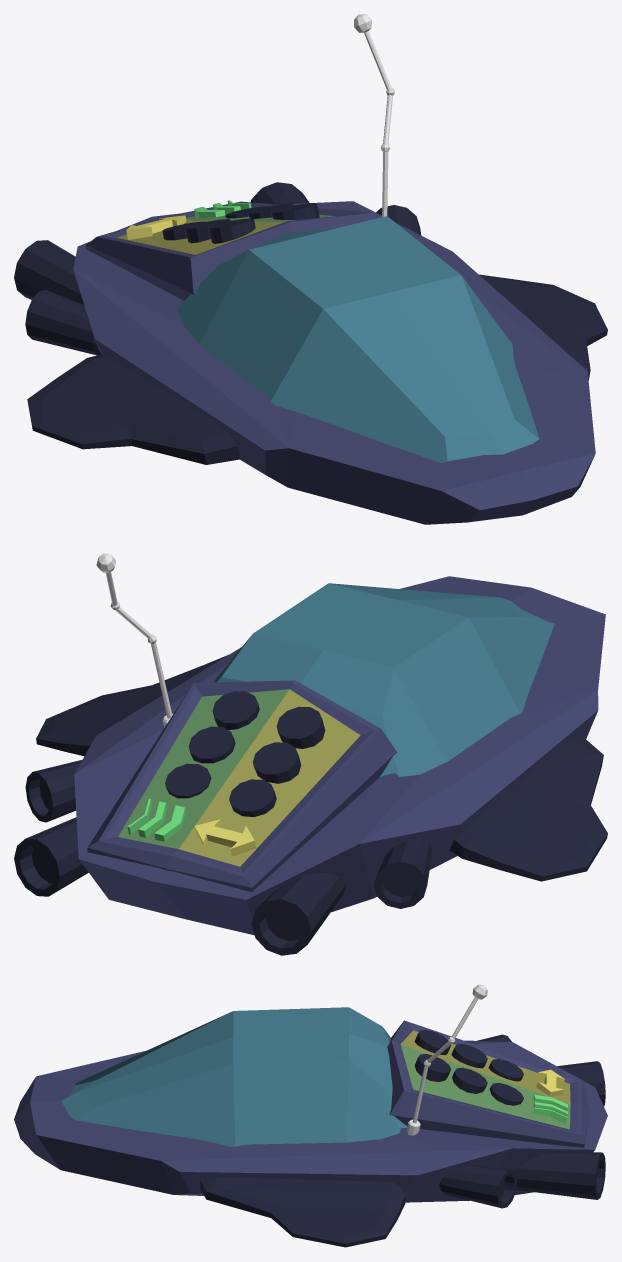
File: mockupCycleEngine_itération2.fbx
The picture shows the model from 3 angles, top to bottom: view 1: azimuth 30°, elevation 25°; view 2: azimuth 150°, elevation 25°; view 3: azimuth 270°, elevation 25°; orthographic projection. The views are drawn at different scales.
Visible parts, largest first — view 1: cockpit, Base, Wings, Back, Rockets, Holders, Sphere.002; view 2: Base, cockpit, Back, Wings, Rockets, Holders, Sphere.002; view 3: cockpit, Base, Back, Wings, Rockets, Holders, Sphere.002.
Part boxes in pixels (x1,y1,x2,y2): cockpit: (177,216,539,463); Base: (73,201,595,524); Wings: (27,274,607,464); Back: (86,200,376,300); Rockets: (14,182,421,355); Holders: (162,203,319,243); Sphere.002: (354,14,394,216); Base: (74,576,605,935); cockpit: (213,583,554,776); Back: (87,680,396,892); Wings: (36,654,607,881); Rockets: (14,759,432,955); Holders: (165,691,325,816); Sphere.002: (96,553,173,727); cockpit: (61,1007,407,1146); Base: (14,1040,607,1202); Back: (387,1020,589,1147); Wings: (200,1177,405,1247); Rockets: (439,1034,605,1208); Holders: (414,1030,523,1105); Sphere.002: (406,984,487,1135).
Bounding box in the file's own units: 609 × 308 × 734.
